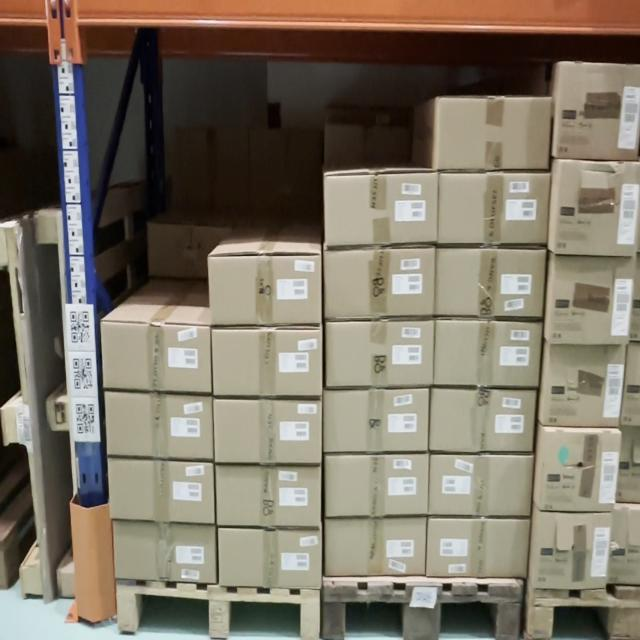box: (553, 160, 640, 258), (555, 62, 640, 160), (548, 254, 635, 344), (326, 248, 435, 319), (439, 175, 549, 243), (440, 100, 546, 170), (209, 256, 320, 321), (542, 343, 626, 428), (326, 178, 436, 242), (437, 249, 542, 316), (215, 330, 320, 395), (108, 392, 211, 457), (215, 400, 320, 462), (539, 432, 620, 511), (327, 324, 431, 385), (104, 326, 209, 386), (325, 390, 427, 451), (434, 324, 541, 382), (218, 467, 319, 527), (533, 512, 612, 588), (110, 461, 213, 519), (432, 392, 532, 451), (429, 458, 532, 514), (326, 520, 425, 577), (114, 523, 215, 578), (326, 459, 426, 514), (429, 521, 525, 577), (220, 532, 321, 584), (149, 224, 231, 278), (608, 507, 640, 584), (614, 428, 640, 504), (622, 343, 640, 426)
